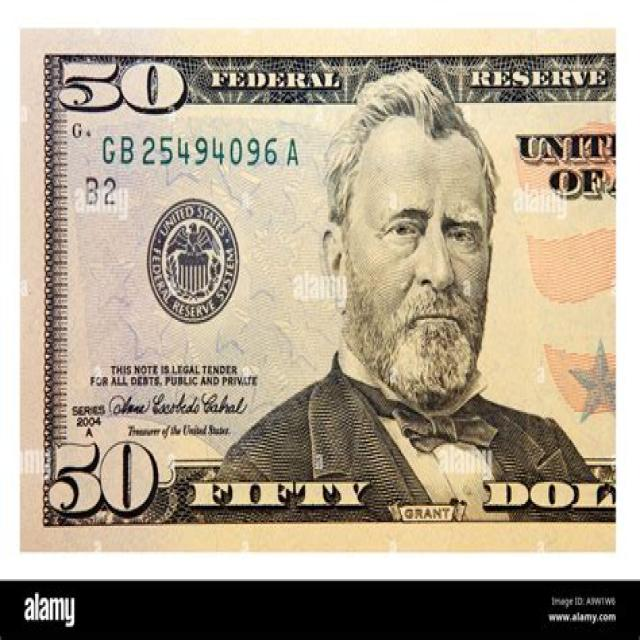Fifty: (22, 28, 616, 553)
